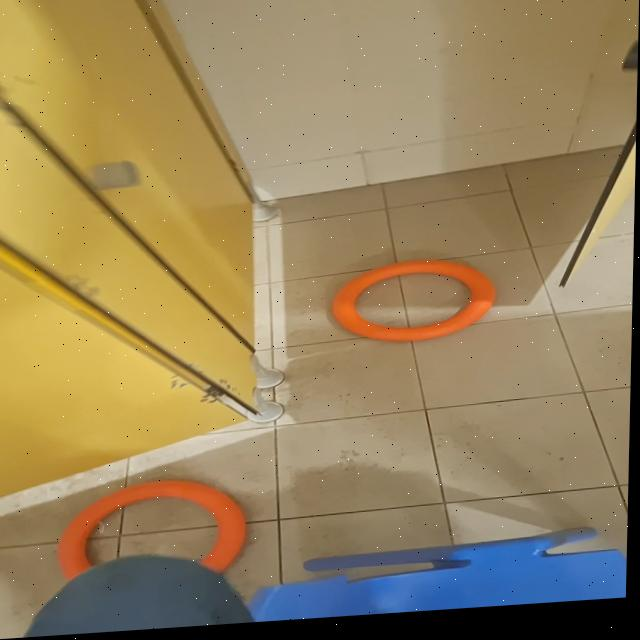note: (58, 477, 252, 585), (332, 261, 500, 352)
